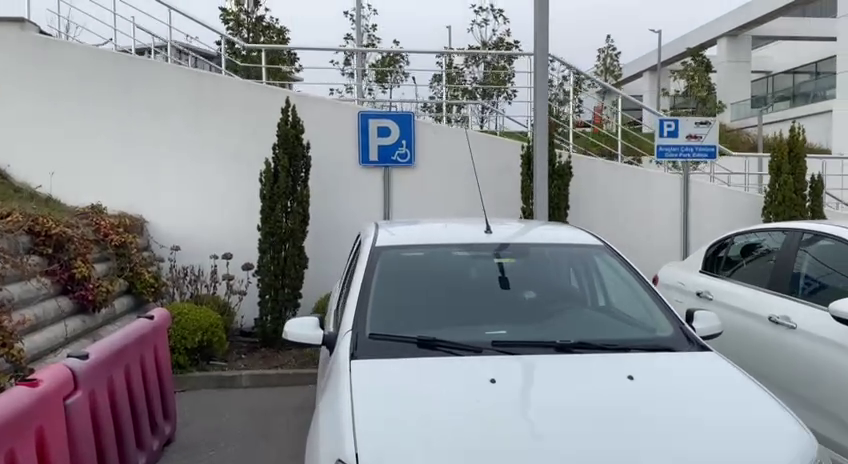parking: (357, 109, 417, 168), (657, 117, 681, 141)
